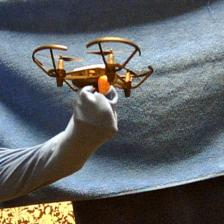drone: (32, 35, 155, 97)
